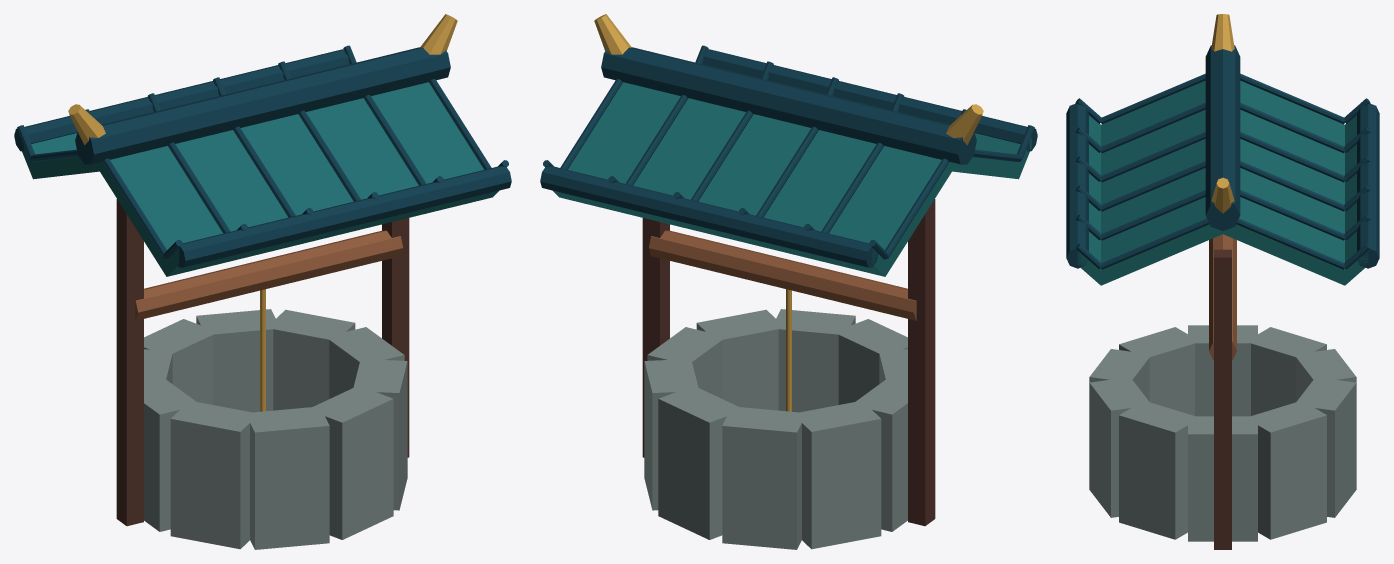
Rendered from well.glb.
3 renders of one model, left to right at view 1: azimuth 30°, elevation 25°; view 2: azimuth 150°, elevation 25°; view 3: azimuth 270°, elevation 25°, orthographic. The views are drawn at different scales.
Parts seen in each view (by area): view 1: well; view 2: well; view 3: well.
Part boxes in pixels (left/top/right/bottom): well: left=14, top=14, right=511, bottom=549; well: left=540, top=14, right=1037, bottom=549; well: left=1066, top=14, right=1379, bottom=549.
Bounding box in the file's own units: 3.8 × 4.01 × 2.91.
